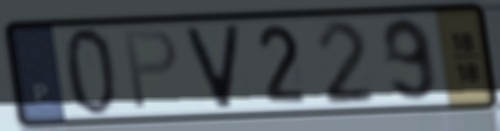0: (62, 25, 120, 119)
2: (315, 17, 379, 108), (257, 22, 309, 106)
9: (379, 15, 438, 104)
P: (121, 26, 181, 113)
V: (181, 21, 243, 112)
